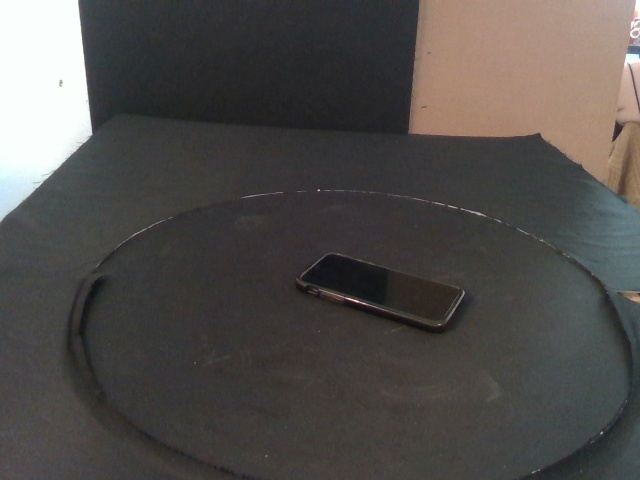phone: (294, 250, 465, 333)
